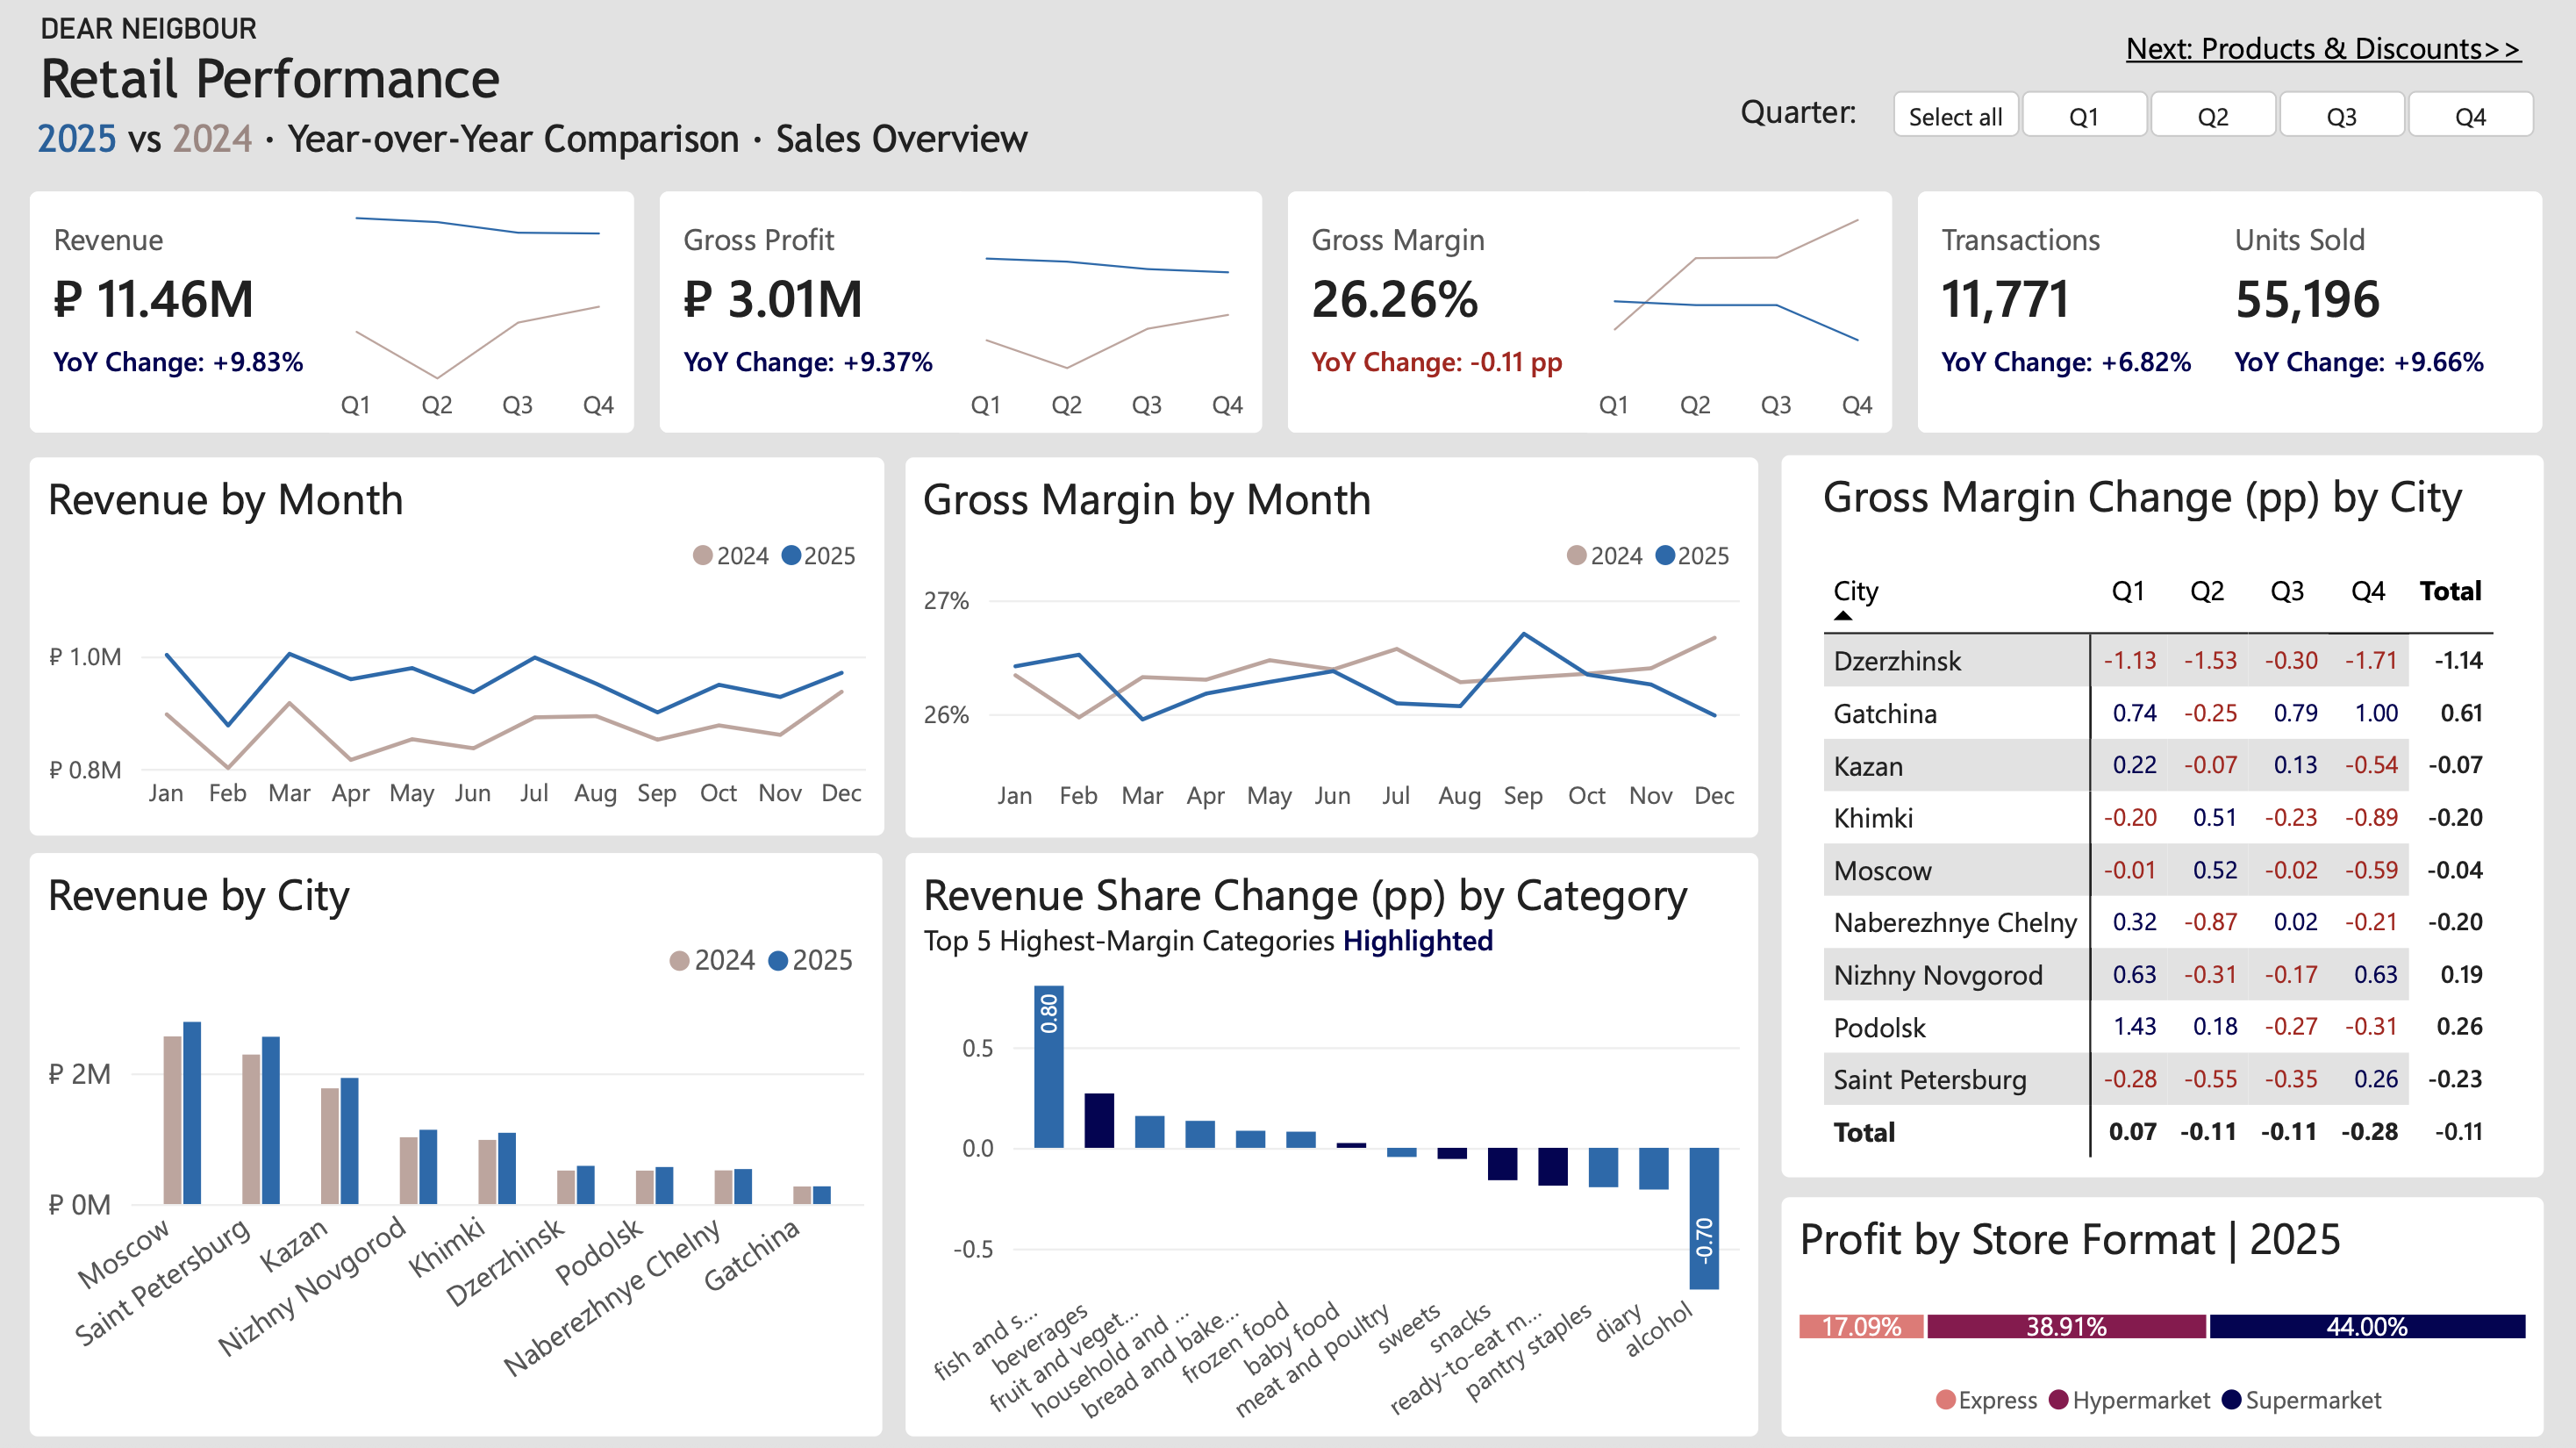

Layout of this report page (visuals, bound fields, positions):
{"tool":"powerbi","page":{"name":"Sales Overview","canvas":[1280,720],"ordinal":0},"visuals":[{"type":"textbox","box":[0,0,290,60],"z":0},{"type":"advancedSlicerVisual","fields":{"Values":["calendar.Quarter"]},"box":[936.7,43.8,325,25],"z":1000},{"type":"textbox","box":[0,53.5,545.7,33.1],"z":2000},{"type":"cardVisual","fields":{"Data":["fact_sales.Gross Margin %"]},"box":[645,95,150,120],"z":3000},{"type":"cardVisual","fields":{"Data":["fact_sales.Transactions"]},"box":[962.1,95,150,120],"z":4000},{"type":"lineChart","title":"Gross Margin","fields":{"Category":["calendar.Quarter"],"Series":["calendar.Year"],"Y":["fact_sales.Gross Margin %"]},"box":[793.3,95,155,120],"z":5000},{"type":"pivotTable","title":"Gross Margin Change (pp) by City","fields":{"Columns":["calendar.Quarter"],"Rows":["dim_stores.city"],"Values":["fact_sales.Margin Change 2025"]},"box":[886.9,226.4,376.6,359.1],"z":6000},{"type":"lineChart","title":"Gross Margin","fields":{"Category":["calendar.Quarter"],"Series":["calendar.Year"],"Y":["fact_sales.Revenue"]},"box":[161.4,95.9,154.5,120],"z":7000},{"type":"lineChart","title":"Gross Margin","fields":{"Category":["calendar.Quarter"],"Series":["calendar.Year"],"Y":["fact_sales.Gross Profit"]},"box":[475,95.6,155.6,120],"z":8000},{"type":"cardVisual","fields":{"Data":["fact_sales.Units Sold"]},"box":[1112.1,95,150,120],"z":9000},{"type":"lineChart","title":"Revenue by Month","fields":{"Category":["calendar.Month"],"Series":["calendar.Year"],"Y":["fact_sales.Revenue"]},"box":[15.4,227.4,425,188.3],"z":10000},{"type":"clusteredColumnChart","title":"Revenue by City","fields":{"Category":["dim_stores.city"],"Series":["calendar.Year"],"Y":["fact_sales.Revenue"]},"box":[16.5,425,423.9,296.3],"z":11000},{"type":"clusteredColumnChart","title":"Revenue Share Change  (pp) by Category","fields":{"Category":["dim_products.category"],"Y":["fact_sales.Revenue Share Change pp"]},"box":[452,425,423.9,295.3],"z":12000},{"type":"textbox","box":[451.7,457.9,363.3,30],"z":13000},{"type":"lineChart","title":"Gross Margin % by Month","fields":{"Category":["calendar.Month"],"Series":["calendar.Year"],"Y":["fact_sales.Gross Margin %"]},"box":[452,227.4,423.9,189.3],"z":14000},{"type":"hundredPercentStackedBarChart","title":"Profit by Store Format | 2025","fields":{"Category":["calendar.Year"],"Series":["dim_stores.store_format"],"Y":["fact_sales.Gross Profit"]},"box":[886.9,597.8,374.5,127.6],"z":15000},{"type":"textbox","box":[860.8,43.8,75.9,25],"z":16000},{"type":"cardVisual","fields":{"Data":["fact_sales.Gross Profit"]},"box":[328.5,95.9,150,120],"z":17000},{"type":"cardVisual","fields":{"Data":["fact_sales.Revenue"]},"box":[15.6,95.9,150,120],"z":18000},{"type":"actionButton","title":"Next: Customers & Loyalty","box":[1052.4,0,228.6,37],"z":19000}]}

Visuals, with their boxes in screenshot pixels (x1, y1, x2, y2), scaled from the page's 1280x720 canvas onto the 2576x1448 screenshot:
textbox: {"left": 0, "top": 0, "right": 583, "bottom": 121}
advancedSlicerVisual - calendar.Quarter: {"left": 1885, "top": 88, "right": 2539, "bottom": 139}
textbox: {"left": 0, "top": 108, "right": 1098, "bottom": 174}
cardVisual - fact_sales.Gross Margin %: {"left": 1298, "top": 191, "right": 1600, "bottom": 433}
cardVisual - fact_sales.Transactions: {"left": 1936, "top": 191, "right": 2238, "bottom": 433}
"Gross Margin" lineChart: {"left": 1597, "top": 191, "right": 1908, "bottom": 433}
"Gross Margin Change (pp) by City" pivotTable: {"left": 1785, "top": 455, "right": 2543, "bottom": 1178}
"Gross Margin" lineChart: {"left": 325, "top": 193, "right": 636, "bottom": 434}
"Gross Margin" lineChart: {"left": 956, "top": 192, "right": 1269, "bottom": 434}
cardVisual - fact_sales.Units Sold: {"left": 2238, "top": 191, "right": 2540, "bottom": 433}
"Revenue by Month" lineChart: {"left": 31, "top": 457, "right": 886, "bottom": 836}
"Revenue by City" clusteredColumnChart: {"left": 33, "top": 855, "right": 886, "bottom": 1447}
"Revenue Share Change  (pp) by Category" clusteredColumnChart: {"left": 910, "top": 855, "right": 1763, "bottom": 1447}
textbox: {"left": 909, "top": 921, "right": 1640, "bottom": 981}
"Gross Margin % by Month" lineChart: {"left": 910, "top": 457, "right": 1763, "bottom": 838}
"Profit by Store Format | 2025" hundredPercentStackedBarChart: {"left": 1785, "top": 1202, "right": 2538, "bottom": 1447}
textbox: {"left": 1732, "top": 88, "right": 1885, "bottom": 139}
cardVisual - fact_sales.Gross Profit: {"left": 661, "top": 193, "right": 963, "bottom": 434}
cardVisual - fact_sales.Revenue: {"left": 32, "top": 193, "right": 333, "bottom": 434}
"Next: Customers & Loyalty" actionButton: {"left": 2118, "top": 0, "right": 2575, "bottom": 75}
